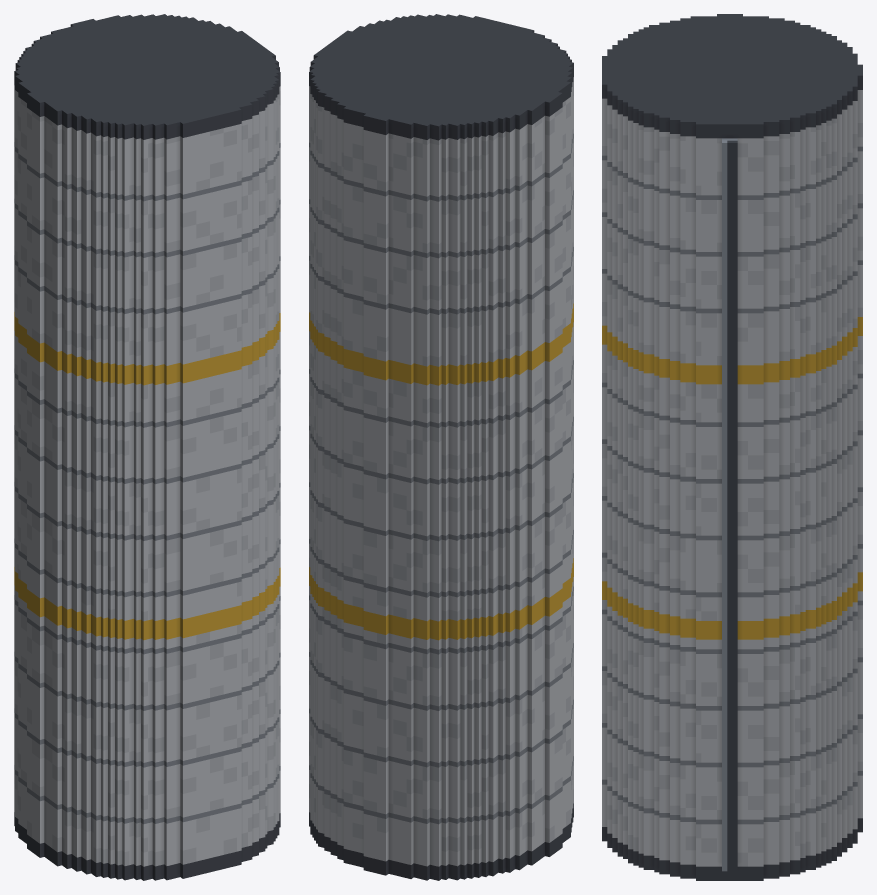
The model's file is tank_lh2_m8.glb.
3 renders of one model, left to right at view 1: azimuth 30°, elevation 25°; view 2: azimuth 150°, elevation 25°; view 3: azimuth 270°, elevation 25°, orthographic.
Parts seen in each view (by area): view 1: tank_lh2_m8; view 2: tank_lh2_m8; view 3: tank_lh2_m8.
Part boxes in pixels (<box>): tank_lh2_m8: <box>14,14,280,880</box>; tank_lh2_m8: <box>309,14,573,880</box>; tank_lh2_m8: <box>602,14,862,880</box>.
Bounding box in the file's own units: 2.6 × 8 × 2.5.
